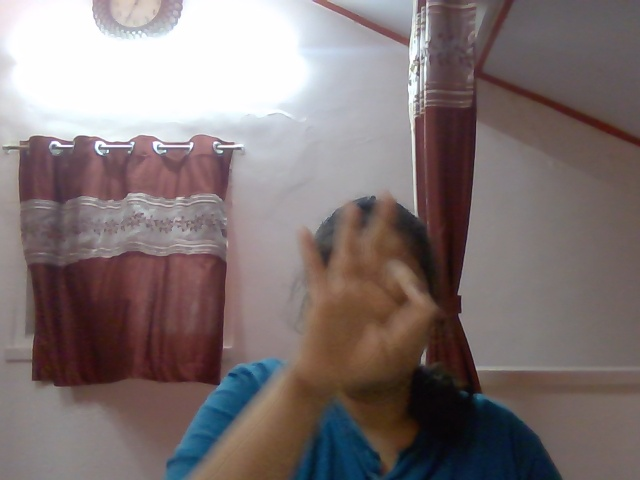f: (284, 187, 444, 388)
